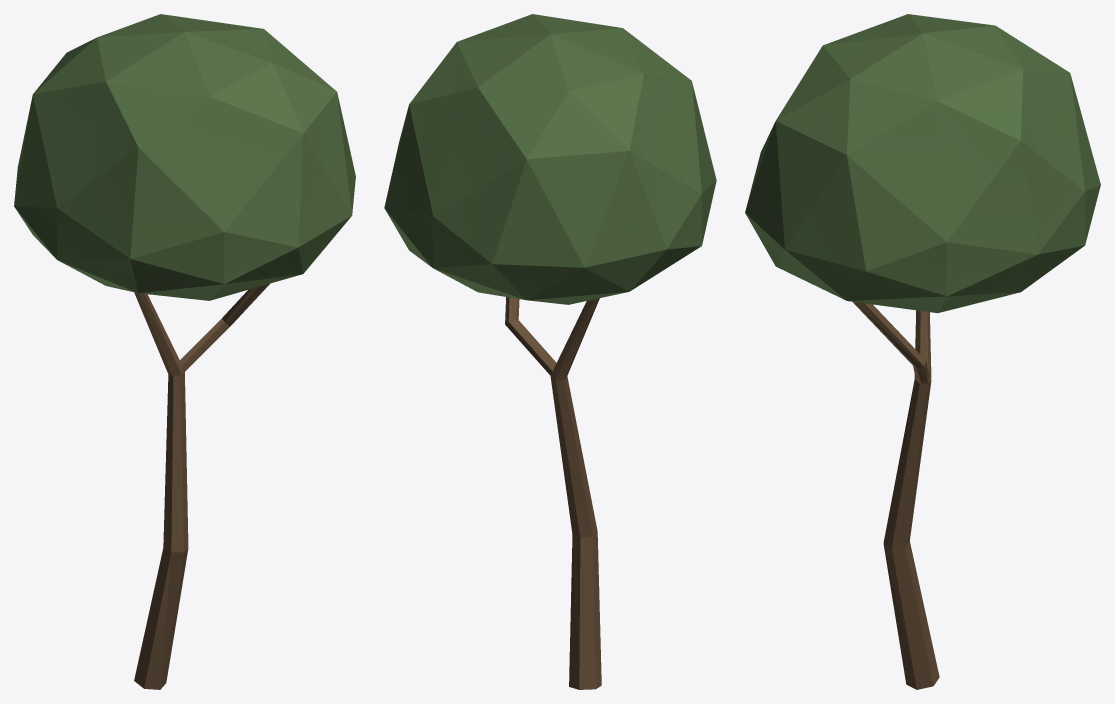
The model's file is tree_green_3.glb.
3 views of the same model, side by side, from view 1: azimuth 30°, elevation 25°; view 2: azimuth 150°, elevation 25°; view 3: azimuth 270°, elevation 25° (orthographic). The views are drawn at different scales.
Parts seen in each view (by area): view 1: Tree Green 3; view 2: Tree Green 3; view 3: Tree Green 3.
Part boxes in pixels (left/top/right/bottom): Tree Green 3: left=14, top=14, right=355, bottom=689; Tree Green 3: left=384, top=14, right=716, bottom=689; Tree Green 3: left=745, top=14, right=1100, bottom=689.
Bounding box in the file's own units: 0.1721 × 0.3691 × 0.1783.
